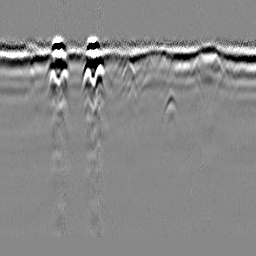cavity: (120, 61, 139, 91)
